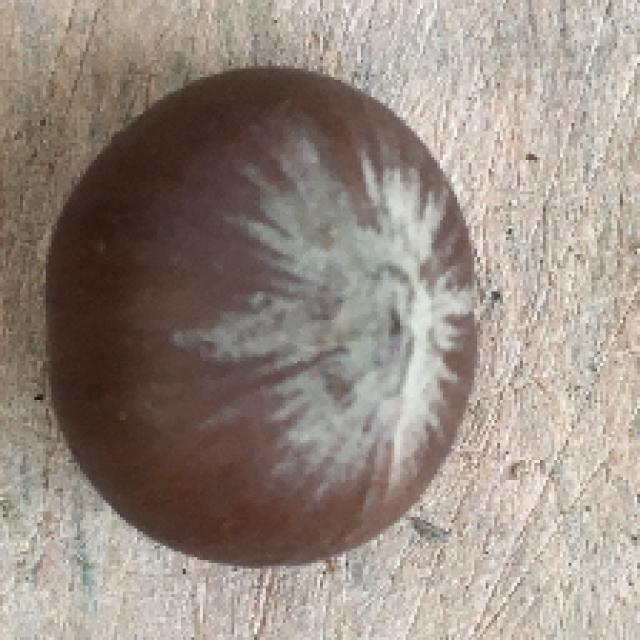damagedHazelnut: (50, 62, 486, 573)
